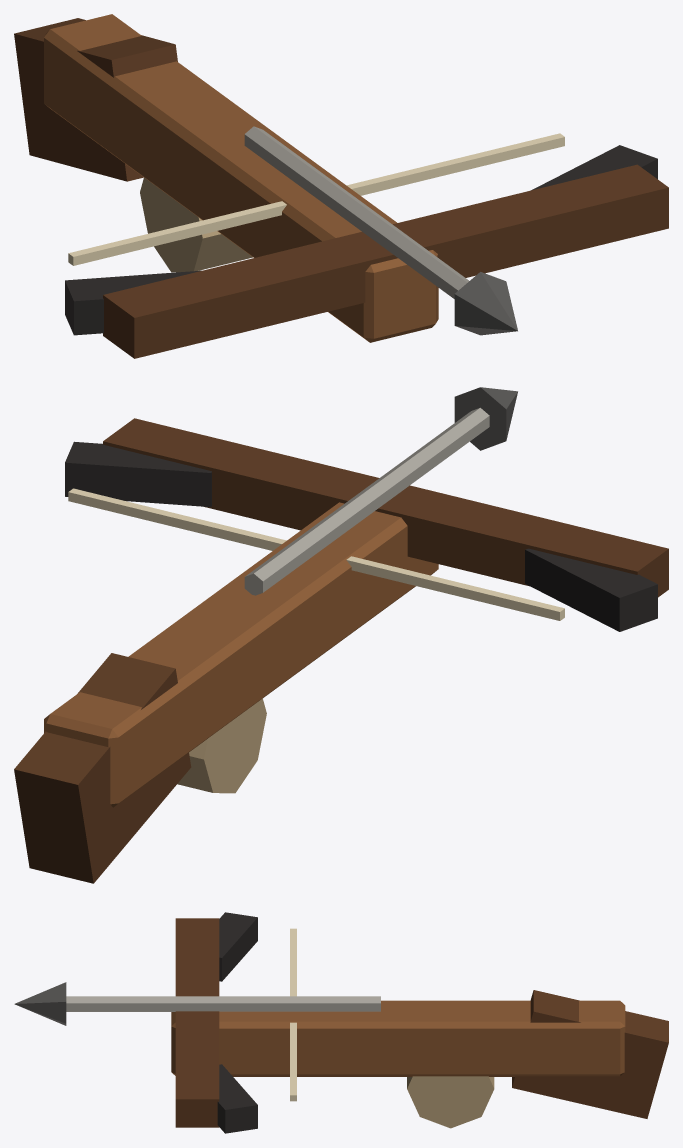
File: ZiplineCrossbow.fbx
3 renders of one model, top to bottom at view 1: azimuth 30°, elevation 25°; view 2: azimuth 150°, elevation 25°; view 3: azimuth 270°, elevation 25°, orthographic. The views are drawn at different scales.
Parts seen in each view (by area): view 1: ZiplineCrossbow; view 2: ZiplineCrossbow; view 3: ZiplineCrossbow.
Boxes of the visible parts, x1,y1,x2,y2 form: ZiplineCrossbow: [14, 14, 668, 358]; ZiplineCrossbow: [14, 387, 668, 883]; ZiplineCrossbow: [14, 912, 668, 1133].
Bounding box in the file's own units: 2.5 × 0.8 × 3.5.
